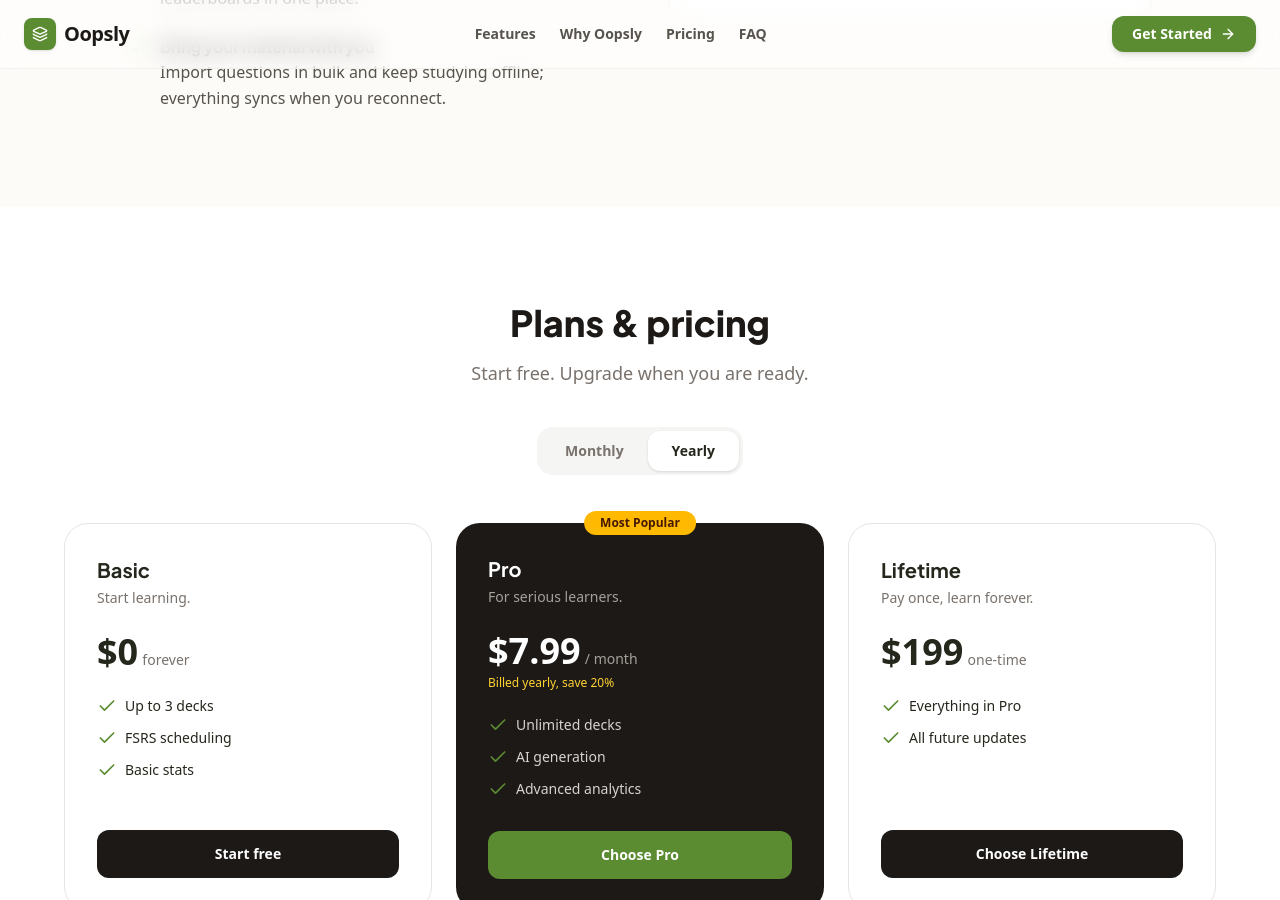
LandingPage › shows plans and pricing, switching between monthly and yearly
(page scrolled)
Expected: the heading "Plans & pricing" is shown, [510,300,770,345]
Click the button with test id "landing-billing-monthly".
click(594, 451)  # box [541,431,648,471]
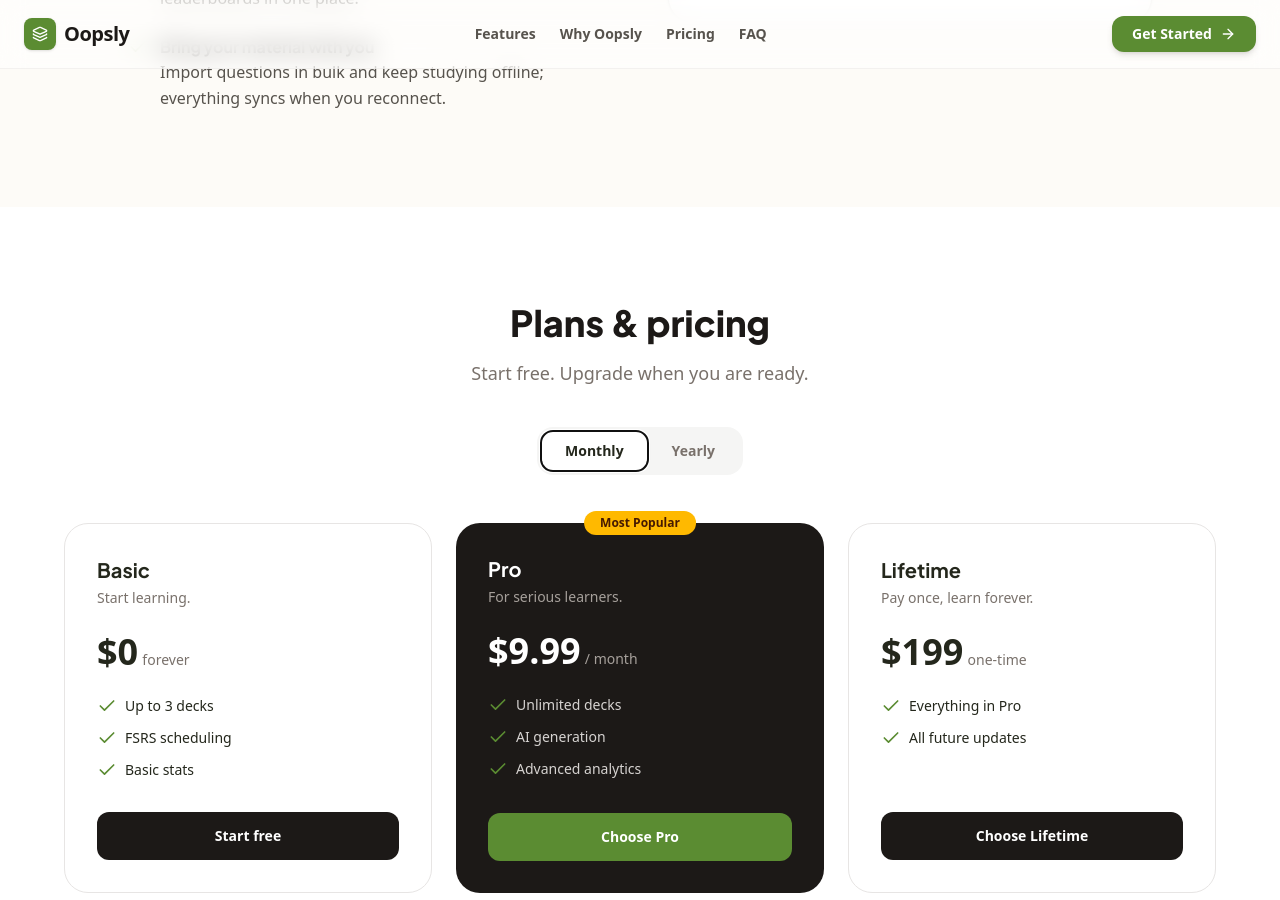
Expected: the element with test id "landing-plan-pro" shows "$9.99", [456,523,824,893]
